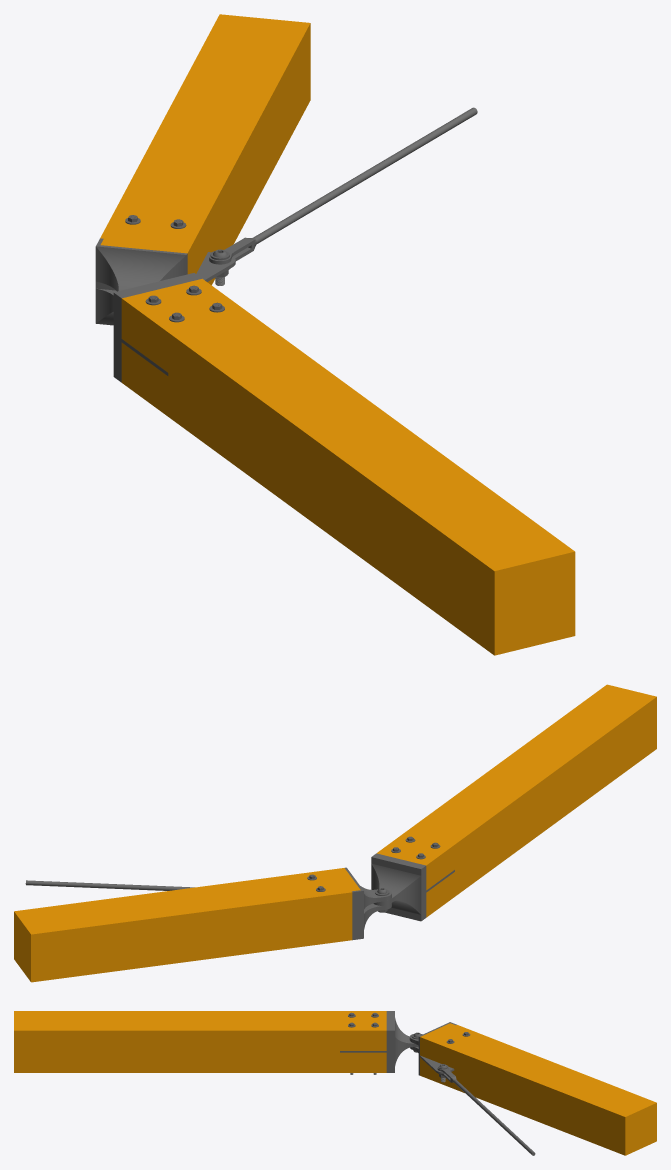
File: Timber_Joint_Detail.fbx
3 renders of one model, top to bottom at view 1: azimuth 30°, elevation 25°; view 2: azimuth 150°, elevation 25°; view 3: azimuth 270°, elevation 25°, orthographic. The views are drawn at different scales.
Visible parts, largest first — view 1: WOOD_POST, WOOD_JOIST, STEEL; view 2: WOOD_JOIST, WOOD_POST, STEEL; view 3: WOOD_POST, WOOD_JOIST, STEEL.
Part boxes in pixels (x1,y1,x2,y2): WOOD_POST: [121, 278, 575, 655]; WOOD_JOIST: [100, 14, 310, 285]; STEEL: [95, 107, 477, 382]; WOOD_JOIST: [14, 868, 360, 982]; WOOD_POST: [377, 684, 656, 917]; STEEL: [25, 853, 454, 940]; WOOD_POST: [14, 1011, 386, 1072]; WOOD_JOIST: [420, 1023, 656, 1155]; STEEL: [340, 1011, 535, 1155].
Bounding box in the file's own units: 37.25 × 82.8 × 7.25.
